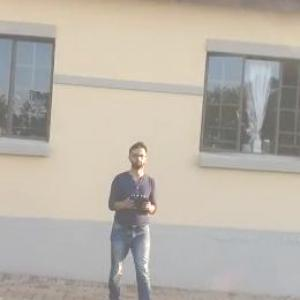follow: (100, 130, 167, 299)
